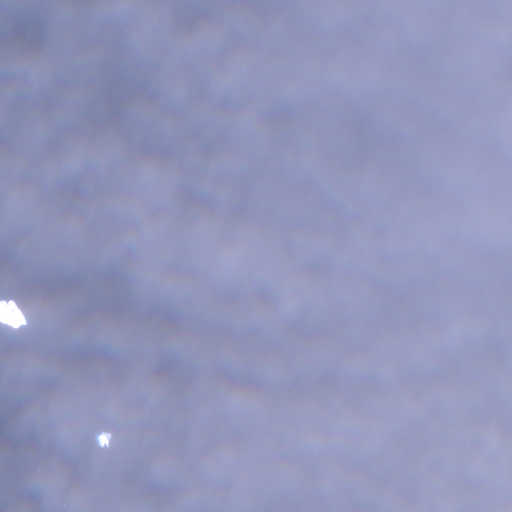Iceberg: (0, 300, 26, 328), (97, 432, 111, 447)
